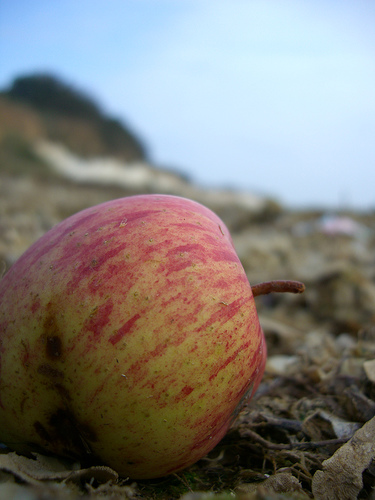apple: (0, 190, 268, 482)
